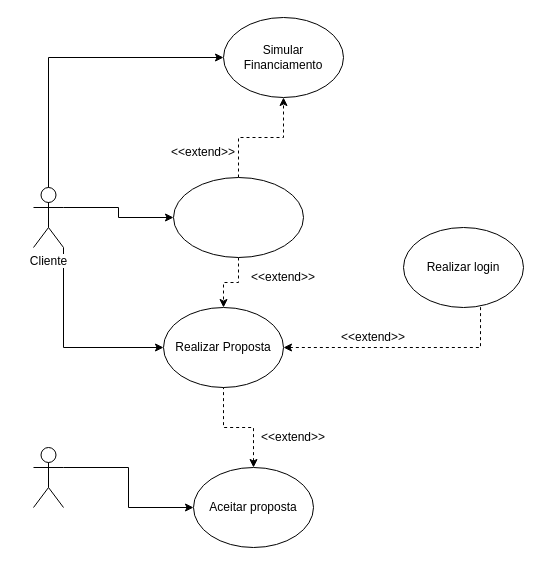
This 541x565 diagram has some shape labels left out. Here are the shapes that lost their labels. From the top down, the box of each, then its label:
(172, 176, 304, 258): Pesquisar Veiculo
(32, 446, 64, 508): Funcionario
